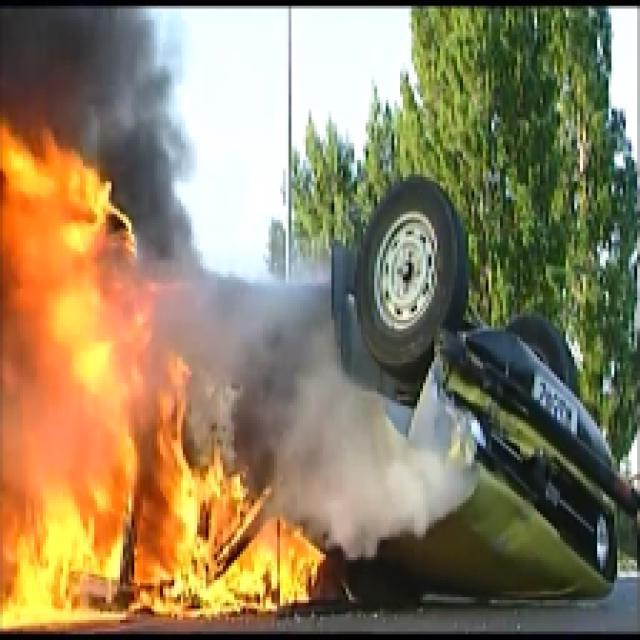Fire: (0, 103, 366, 632)
Smoke: (25, 0, 252, 303), (252, 294, 479, 580)
